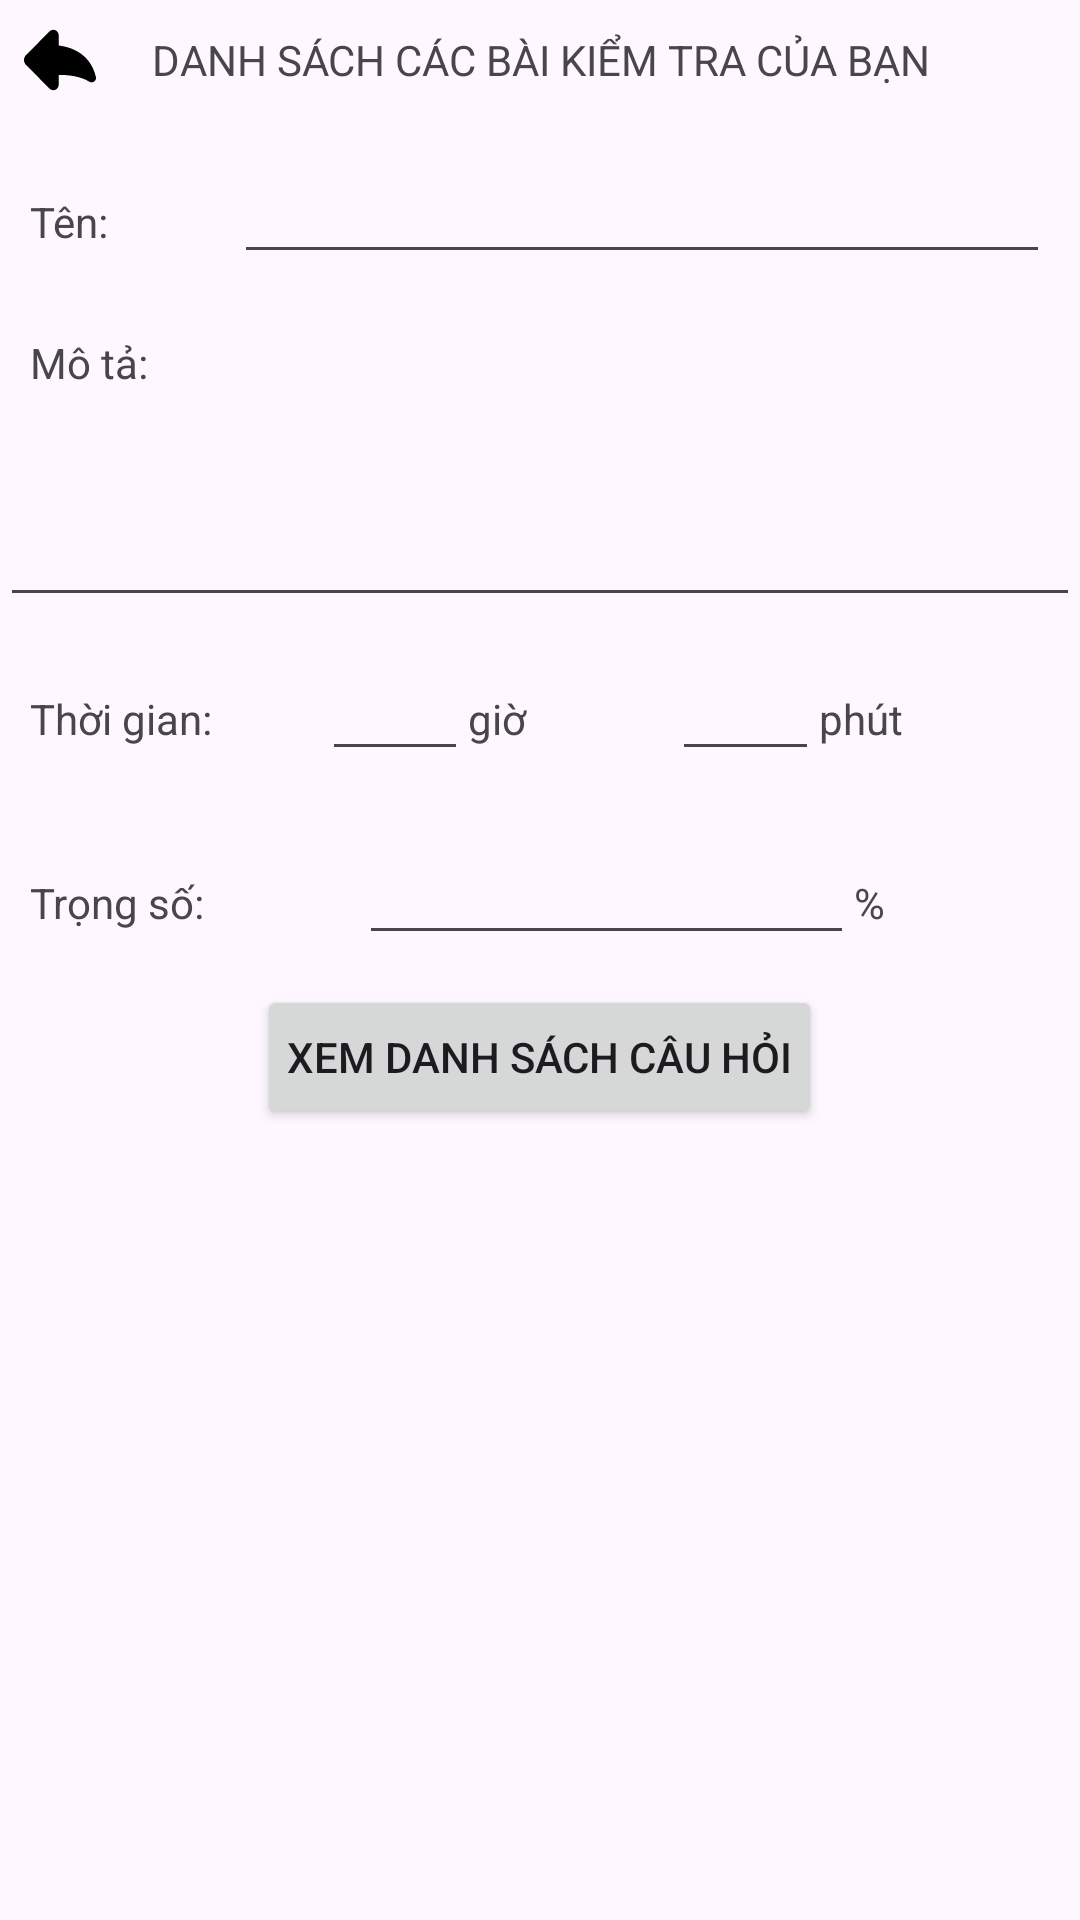

Screen size 1080px×1920px. Icon name, then its box in pixels as (x1, y1, x2, y2):
back arrow: (24, 29, 96, 91)
